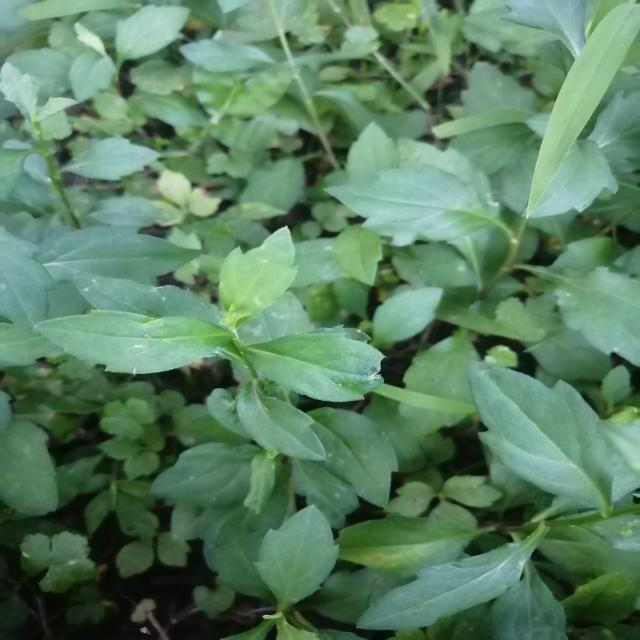Indian aster: (41, 217, 445, 499)
